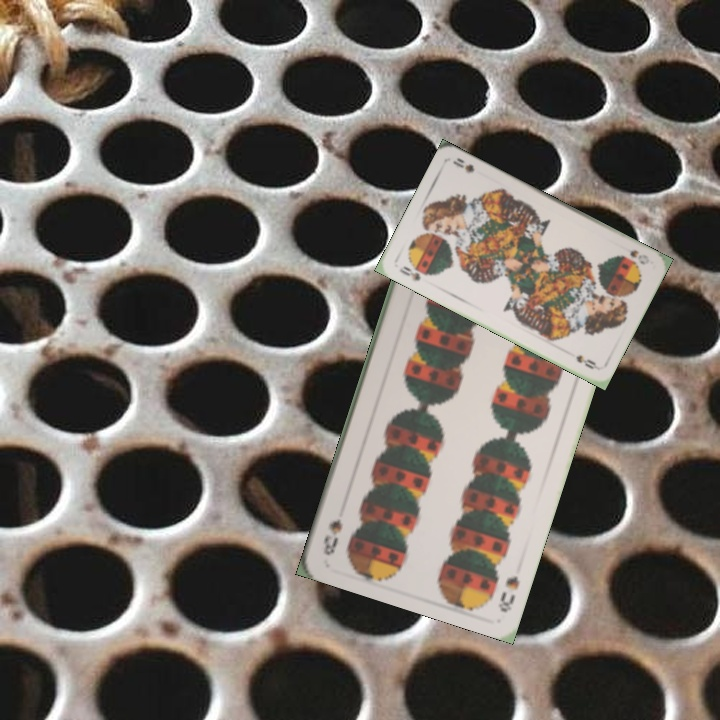S8: (494, 572, 522, 614)
SO: (616, 246, 652, 267), (395, 262, 423, 284)
